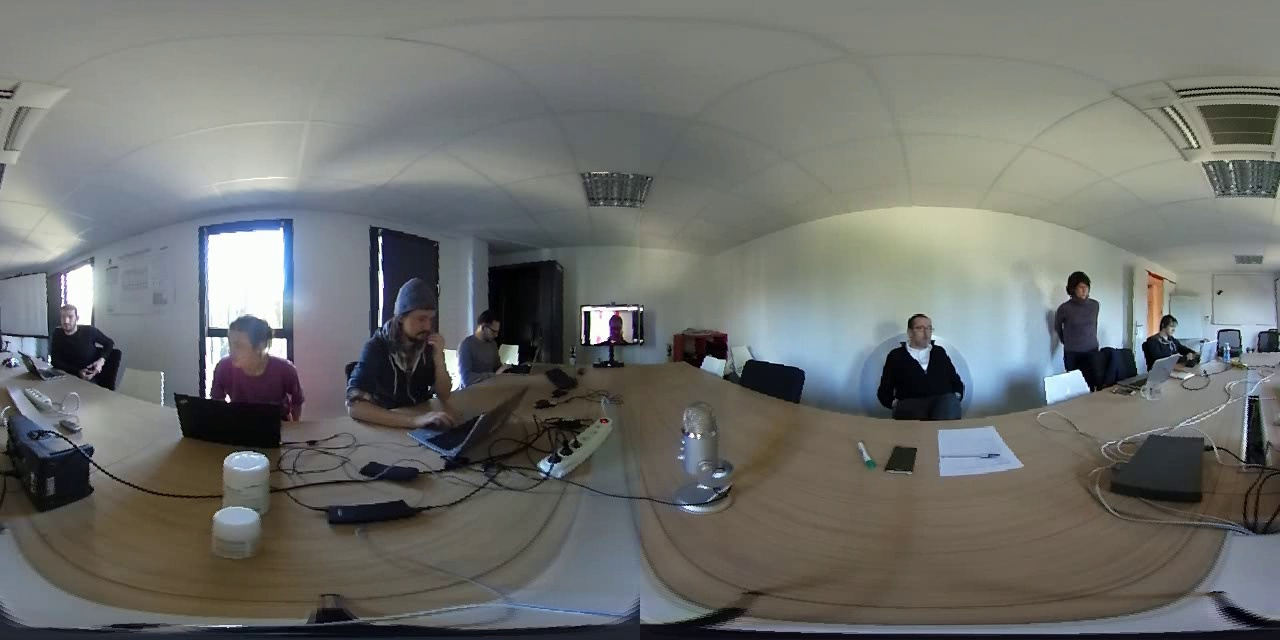person: (344, 267, 455, 407), (865, 301, 977, 427), (186, 295, 301, 413), (1040, 262, 1123, 382), (40, 294, 111, 374), (458, 297, 508, 374), (1141, 295, 1189, 361), (585, 306, 640, 340)
